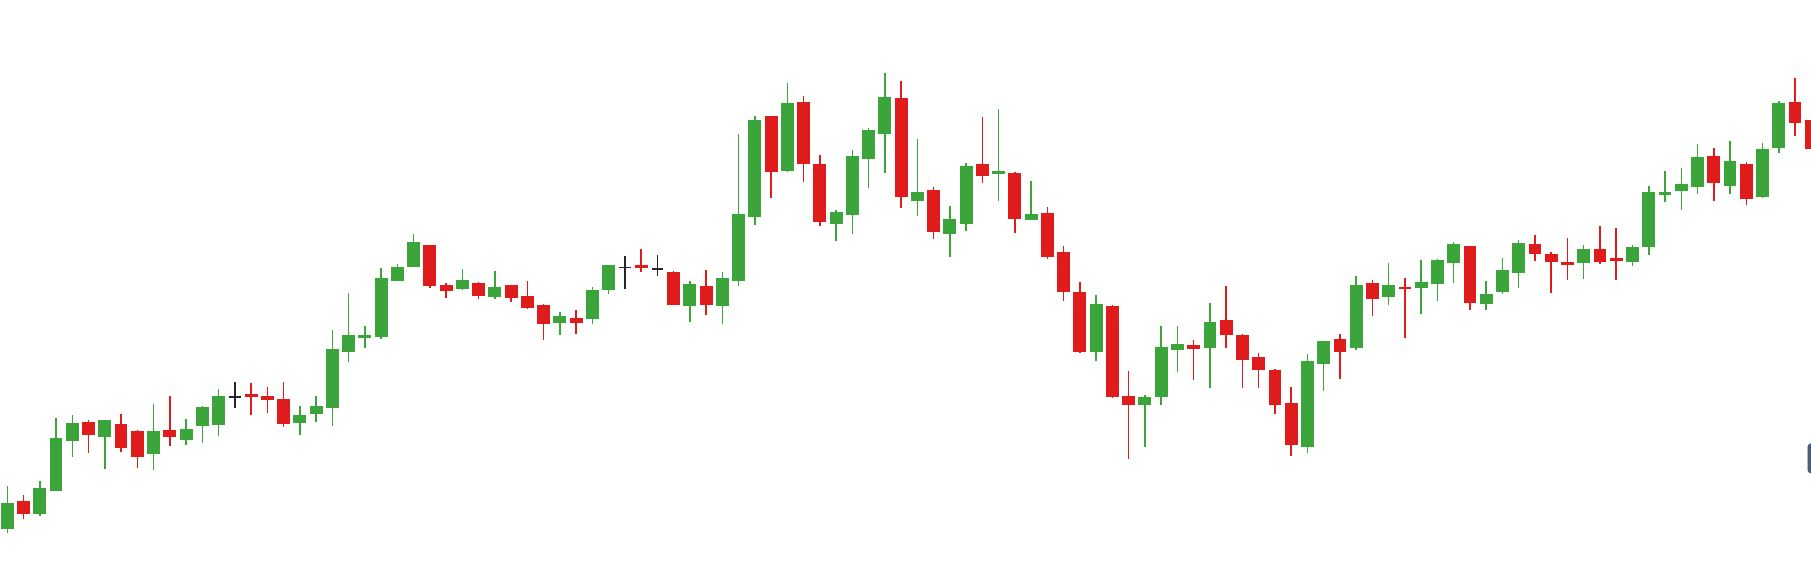buy: (1136, 339, 1317, 459)
sell: (778, 67, 914, 179)
